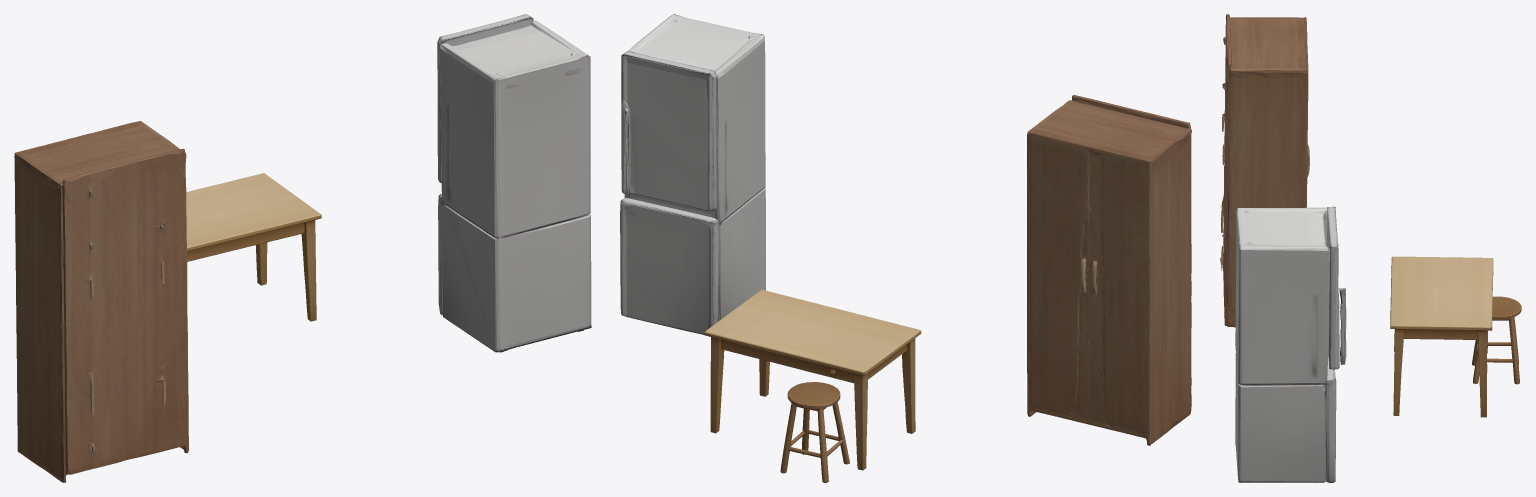
The model's file is figure6-4.glb.
3 renders of one model, left to right at view 1: azimuth 30°, elevation 25°; view 2: azimuth 150°, elevation 25°; view 3: azimuth 270°, elevation 25°, orthographic. The views are drawn at different scales.
Parts seen in each view (by area): view 1: obj_3_part_0, obj_0_part_0, obj_2_part_0, obj_0_part_1; view 2: obj_3_part_0, obj_3_part_1, obj_0_part_0, obj_3_part_2, obj_2_part_0, obj_0_part_1, obj_0_part_2, obj_1_part_0; view 3: obj_0_part_0, obj_3_part_0, obj_2_part_0, obj_0_part_1, obj_1_part_0, obj_0_part_2.
Boxes of the visible parts, box(x1,y1,x2,y2) form: obj_3_part_0: box(15, 121, 188, 482); obj_0_part_0: box(439, 20, 591, 352); obj_2_part_0: box(186, 173, 321, 321); obj_0_part_1: box(437, 14, 533, 183); obj_3_part_0: box(1027, 94, 1191, 444); obj_3_part_1: box(1081, 146, 1151, 445); obj_0_part_0: box(624, 14, 765, 321); obj_3_part_2: box(1030, 132, 1088, 423); obj_2_part_0: box(704, 289, 921, 470); obj_0_part_1: box(621, 51, 716, 211); obj_0_part_2: box(620, 198, 718, 334); obj_1_part_0: box(780, 382, 849, 482); obj_0_part_0: box(1235, 207, 1329, 482); obj_3_part_0: box(1220, 14, 1308, 327); obj_2_part_0: box(1390, 256, 1493, 417); obj_0_part_1: box(1327, 206, 1346, 369); obj_1_part_0: box(1472, 296, 1521, 384); obj_0_part_2: box(1323, 356, 1336, 482).
Size of the model in its own units: 1.78 by 0.9613 by 0.9993.
8 materials, 8 textured.
